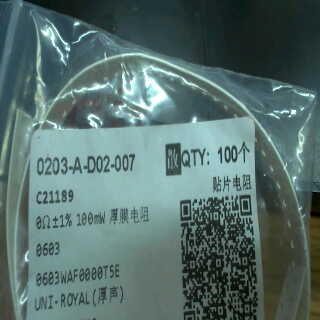0R: (30, 206, 106, 263)
